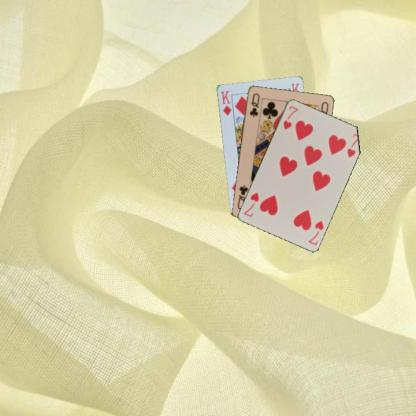7h: (280, 103, 300, 130), (306, 217, 324, 246)
Kd: (218, 88, 232, 117)
Qc: (246, 90, 260, 118)
